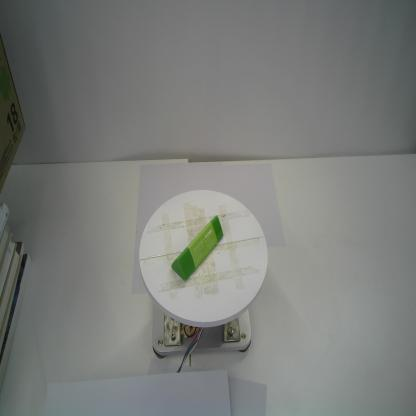Stationery: (169, 213, 225, 284)
